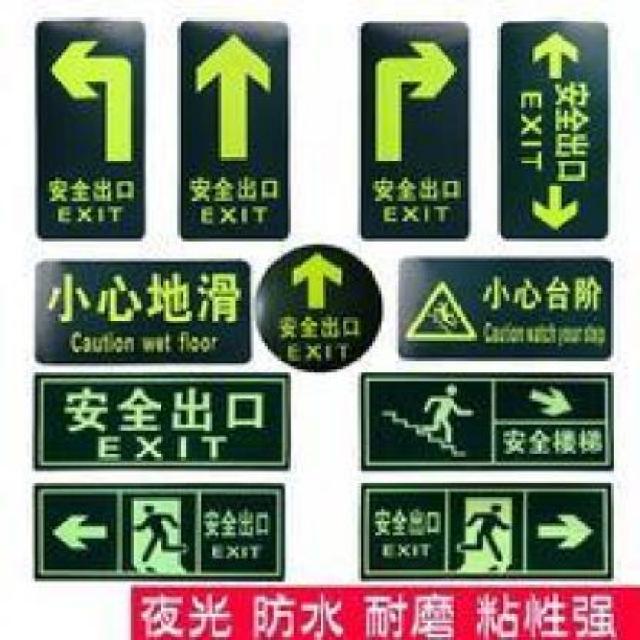exit_sign: (345, 478, 616, 580), (492, 14, 611, 244), (350, 22, 474, 242), (166, 20, 286, 237), (23, 18, 139, 241), (394, 251, 616, 366), (28, 258, 254, 370), (357, 371, 607, 470), (29, 488, 302, 577), (40, 382, 294, 473)
